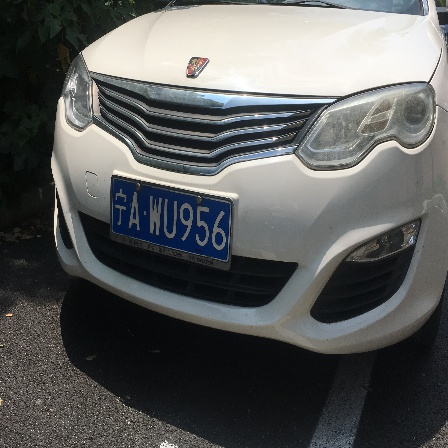plate: (105, 169, 235, 265)
